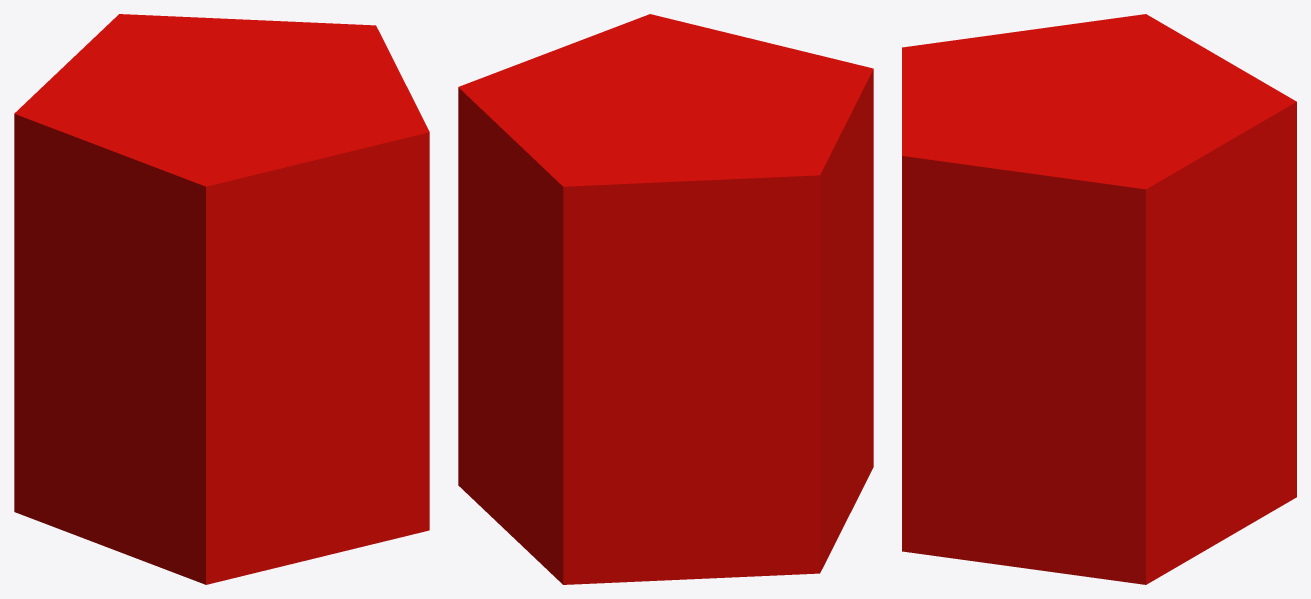
3 views of the same model, side by side, from view 1: azimuth 30°, elevation 25°; view 2: azimuth 150°, elevation 25°; view 3: azimuth 270°, elevation 25° (orthographic).
Parts seen in each view (by area): view 1: 5; view 2: 5; view 3: 5.
Boxes of the visible parts, x1,y1,x2,y2 form: 5: (14,14,429,584); 5: (458,14,873,584); 5: (902,14,1296,584).
Size of the model in its own units: 95.11 by 100 by 90.45.
